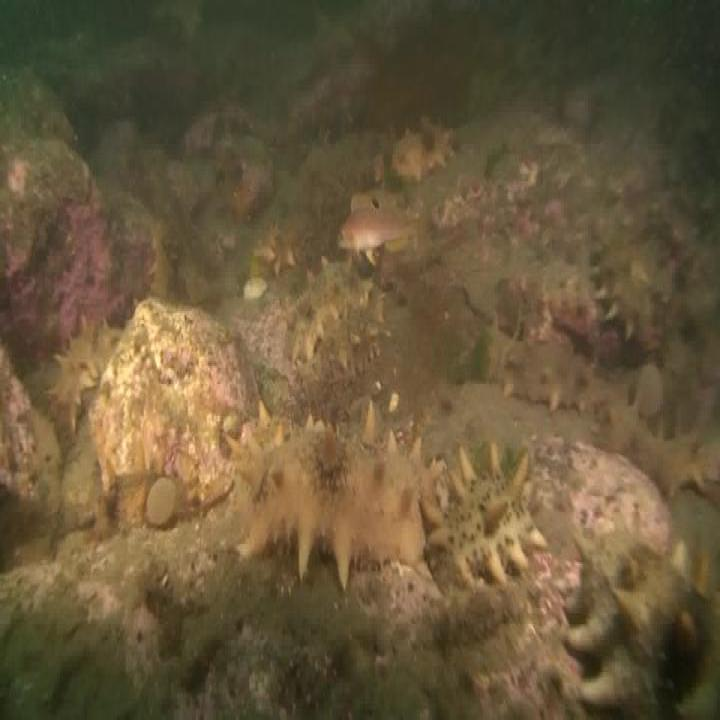holothurian: (565, 515, 720, 720), (233, 406, 431, 500), (423, 444, 541, 590), (249, 475, 419, 576), (292, 254, 386, 363), (613, 402, 707, 496), (491, 322, 591, 407), (49, 315, 122, 423), (589, 228, 654, 336), (396, 116, 457, 176)
scallop: (245, 279, 268, 299)
